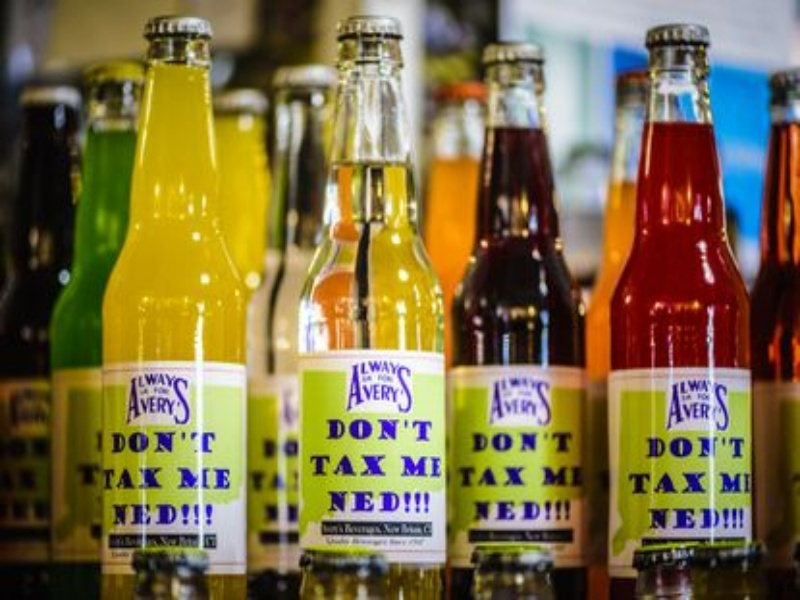Glass bottle: (567, 1, 778, 599), (267, 6, 478, 578), (80, 24, 279, 595), (427, 37, 621, 597), (26, 39, 162, 563)
